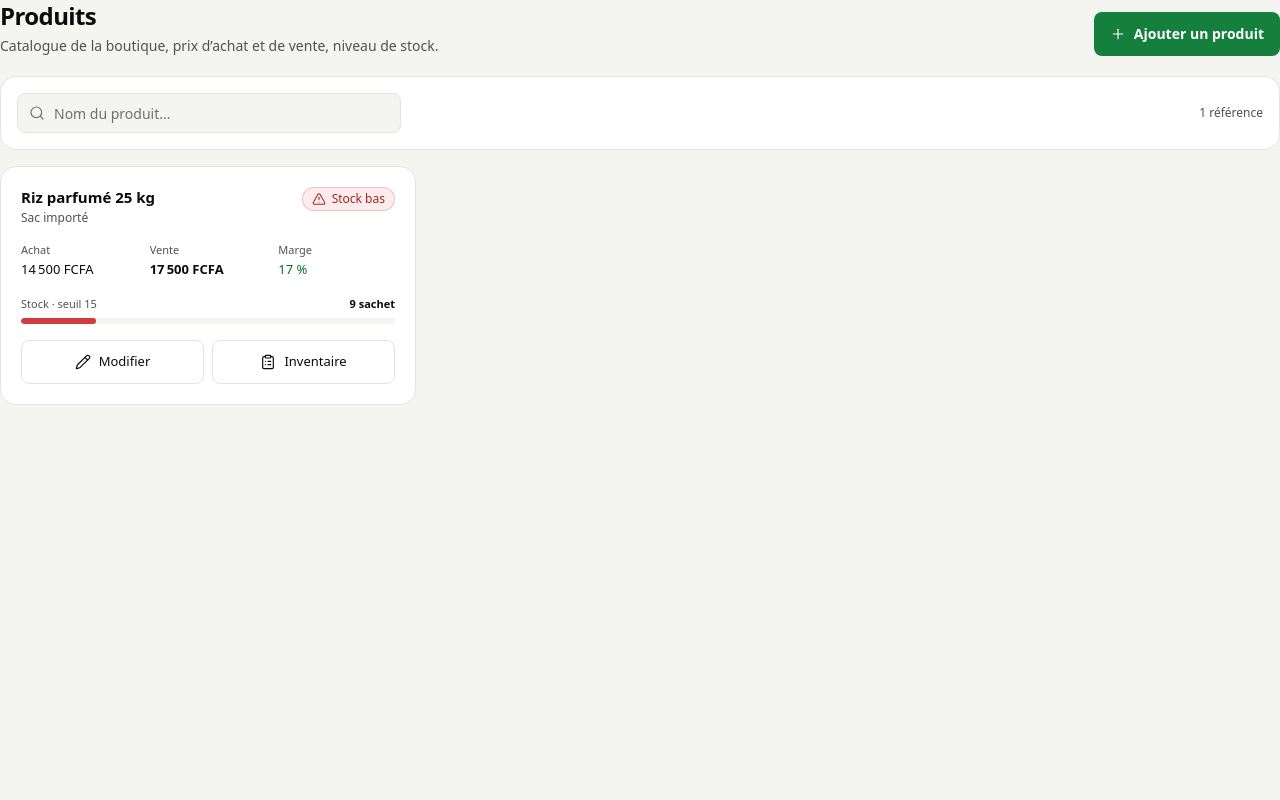
Test case: accessibilité de l'écran Produits › ne présente aucune infraction, confirmation de retrait ouverte
Check: the heading "Riz parfumé 25 kg" is shown, box [21, 187, 155, 208]
Click the button with aria-label "modifier riz".
click(112, 362)  # box [21, 340, 204, 384]
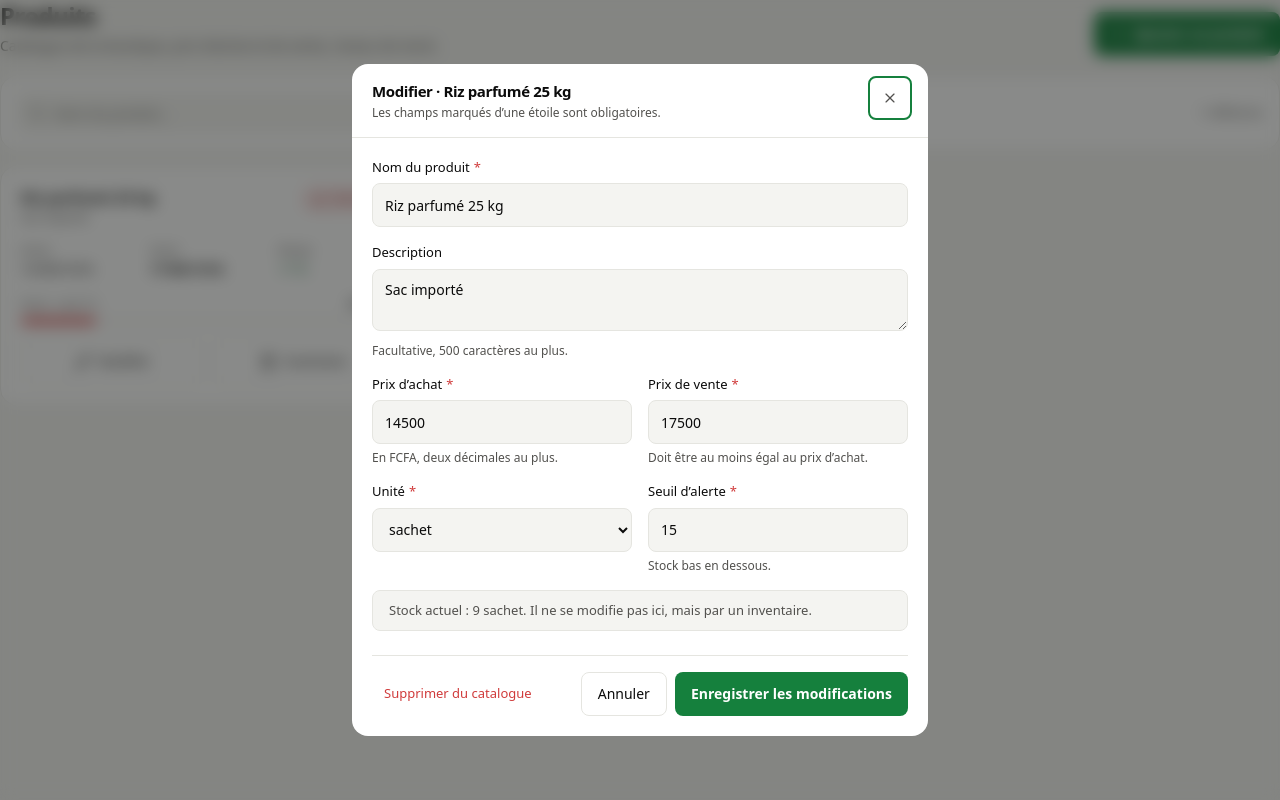
Check: the dialog is shown, box [352, 64, 928, 736]
Click the button "Supprimer du catalogue".
click(458, 694)  # box [372, 672, 544, 716]
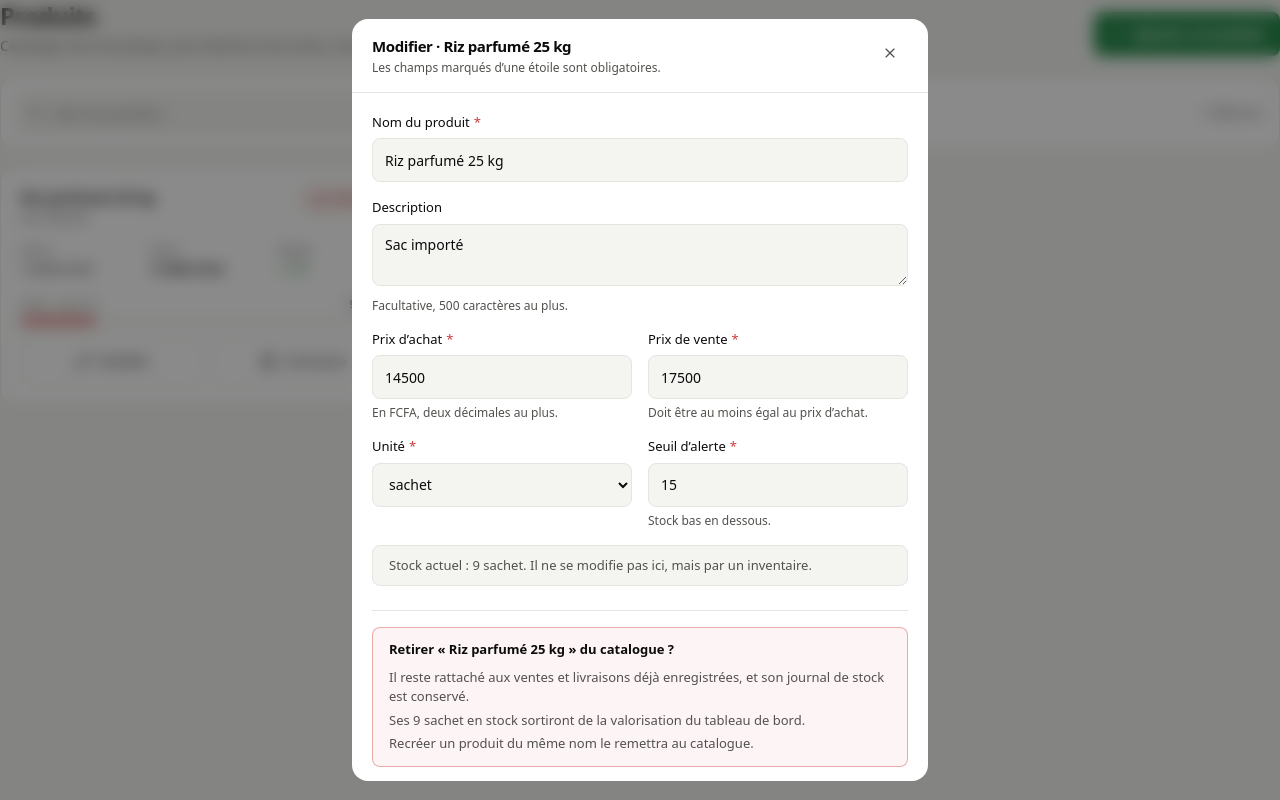
Check: the text "Retirer « Riz parfumé 25 kg » du catalogue ?" is shown, box [389, 640, 674, 658]
